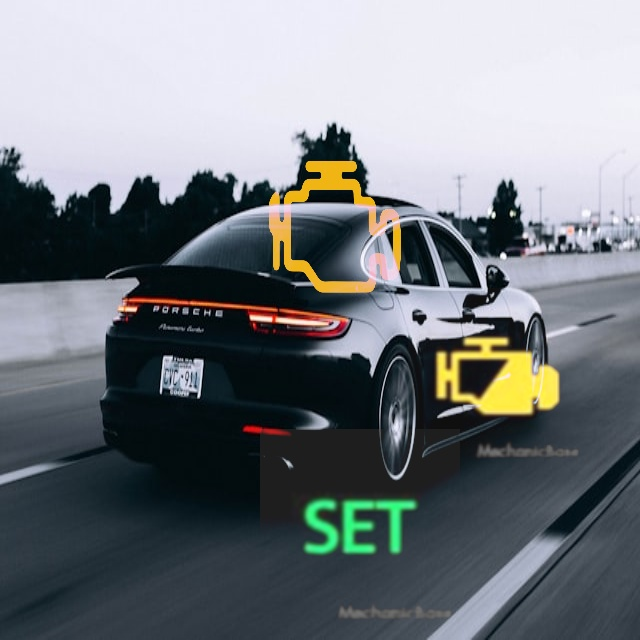symbol: (225, 112, 444, 331), (260, 429, 460, 629), (408, 288, 586, 466)
